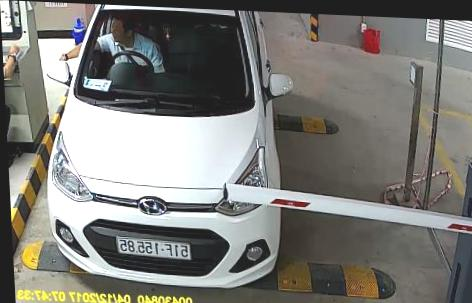License_Plate: (115, 235, 192, 258)
